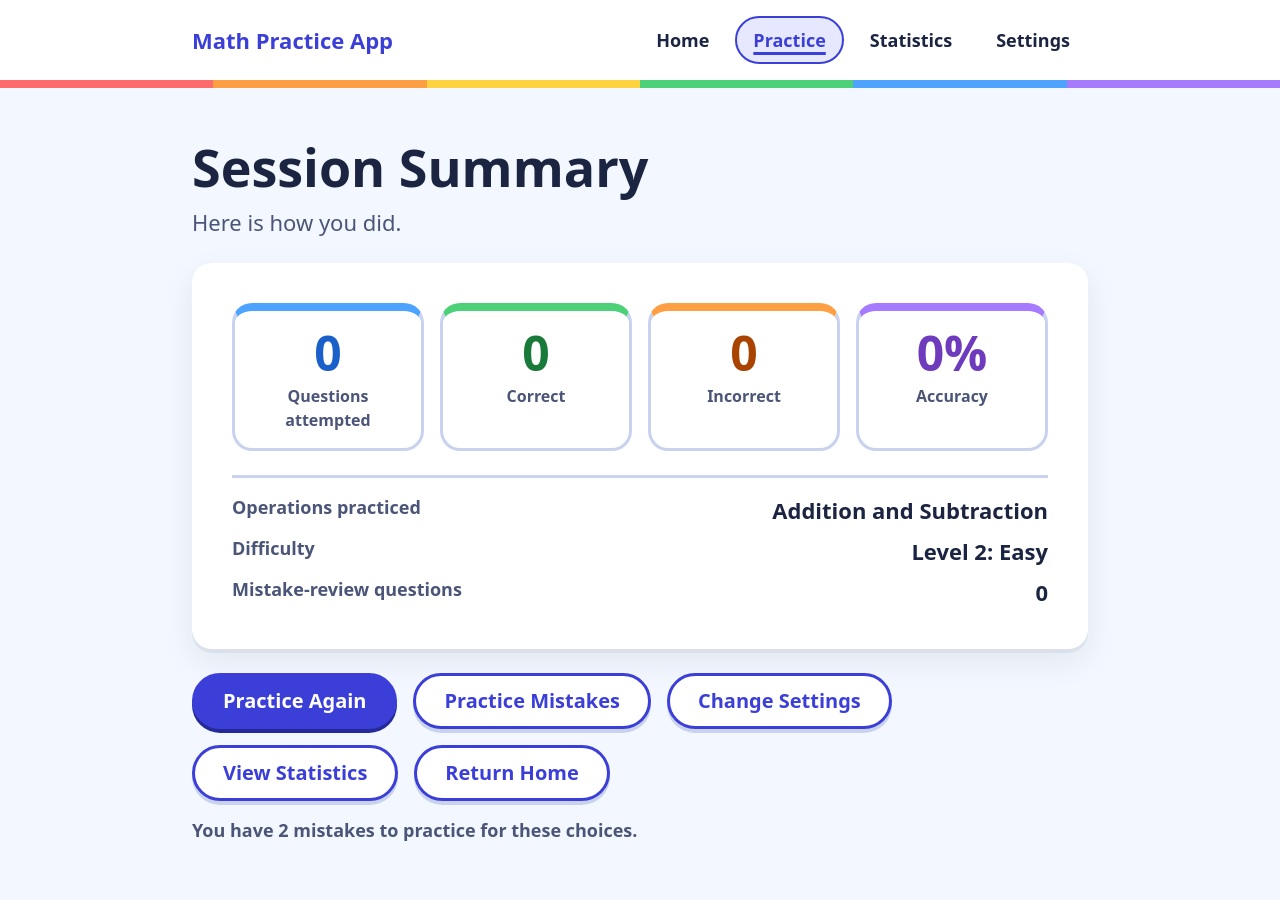
Test: SessionSummaryPage › actions › after a mistake-review session › Practice Again starts another review, not regular practice
Click the button "Practice Again" at (295, 701), box [192,673,398,729]
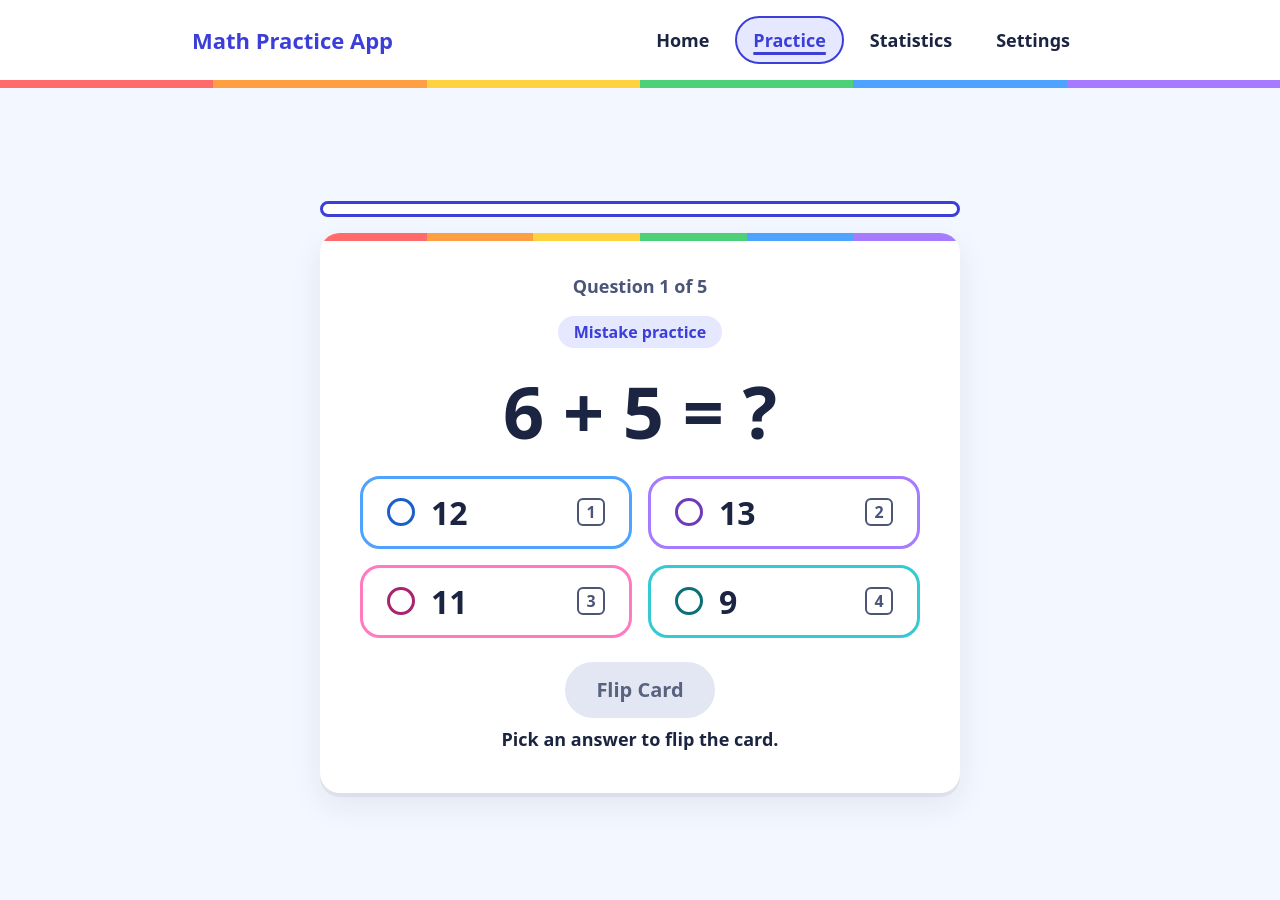
Check: the text "Mistake practice" is shown, box [558,316,722,348]
